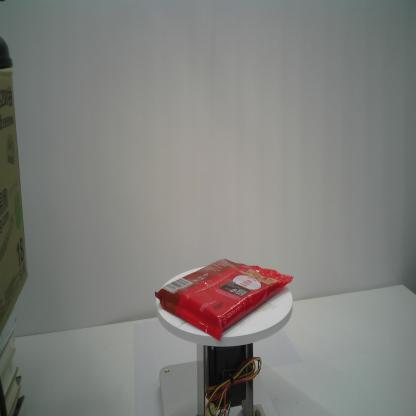Dessert: (154, 258, 293, 342)
